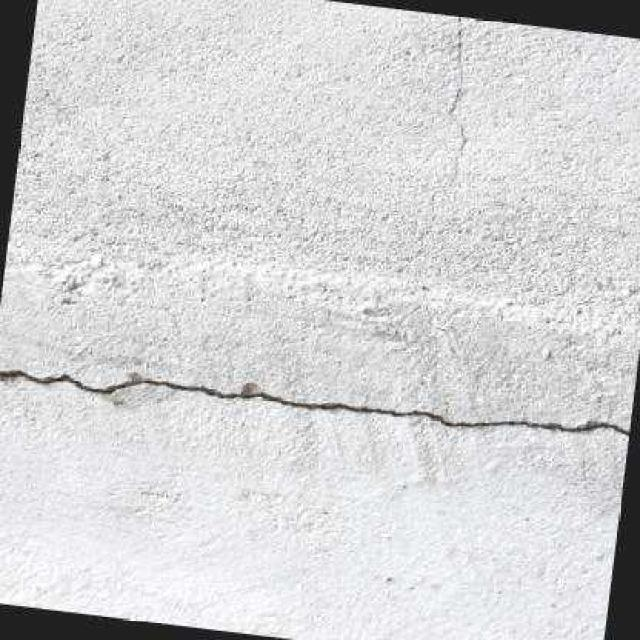D00: (0, 367, 628, 436), (447, 14, 470, 159)
